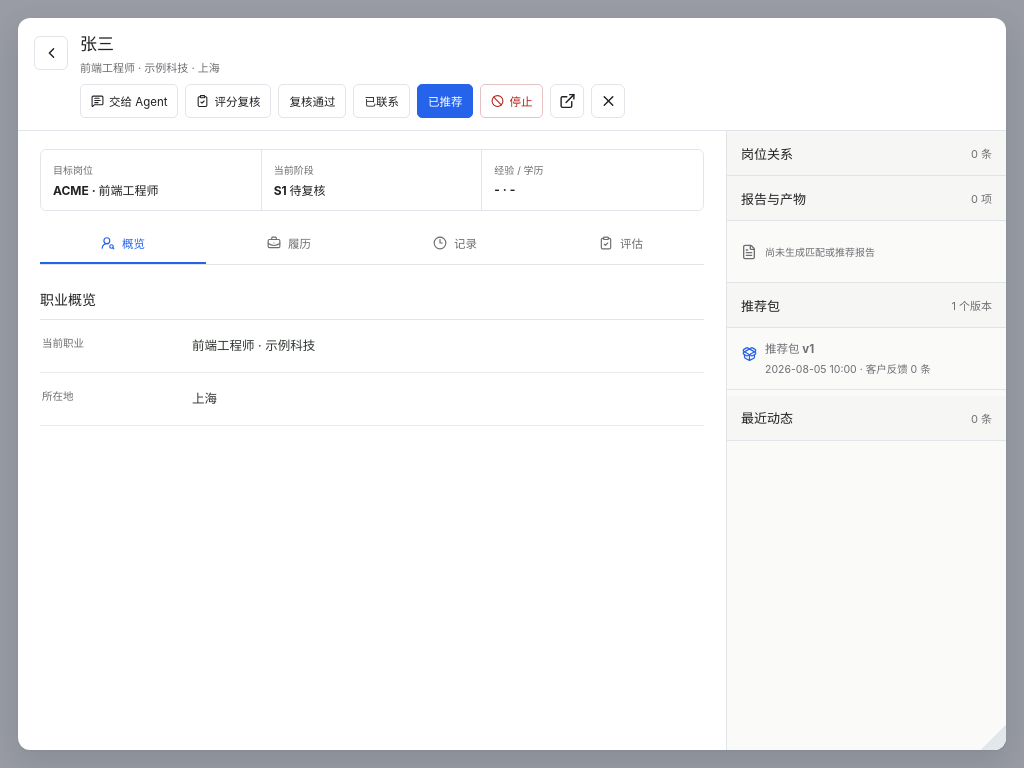
版本化推荐包（recommendation-packages） › 当前评估晚于推荐包时提示证据可能过期，不提供虚假升版按钮
What coordinates should you click on to do the following:
click the button with aria-label "查看推荐包 v1"
I would click on:
 (787, 349)
Its box is x1=727 y1=328 x2=1006 y2=390.
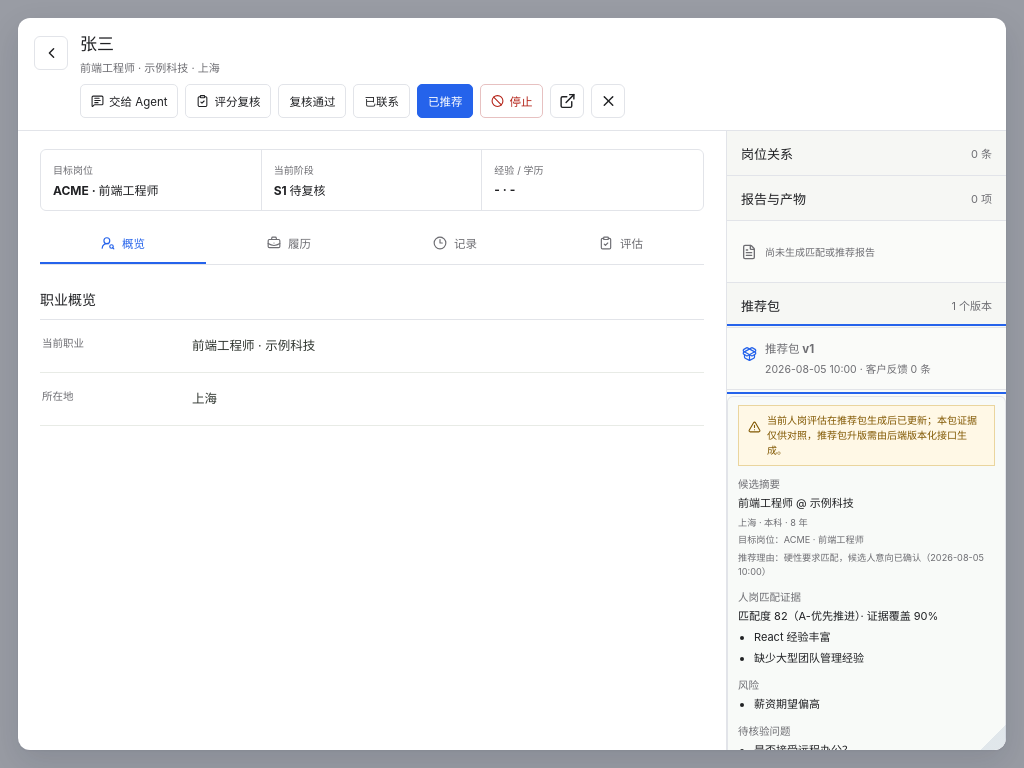
Expected: the message shows "当前人岗评估在推荐包生成后已更新", x1=767 y1=414 x2=977 y2=456
